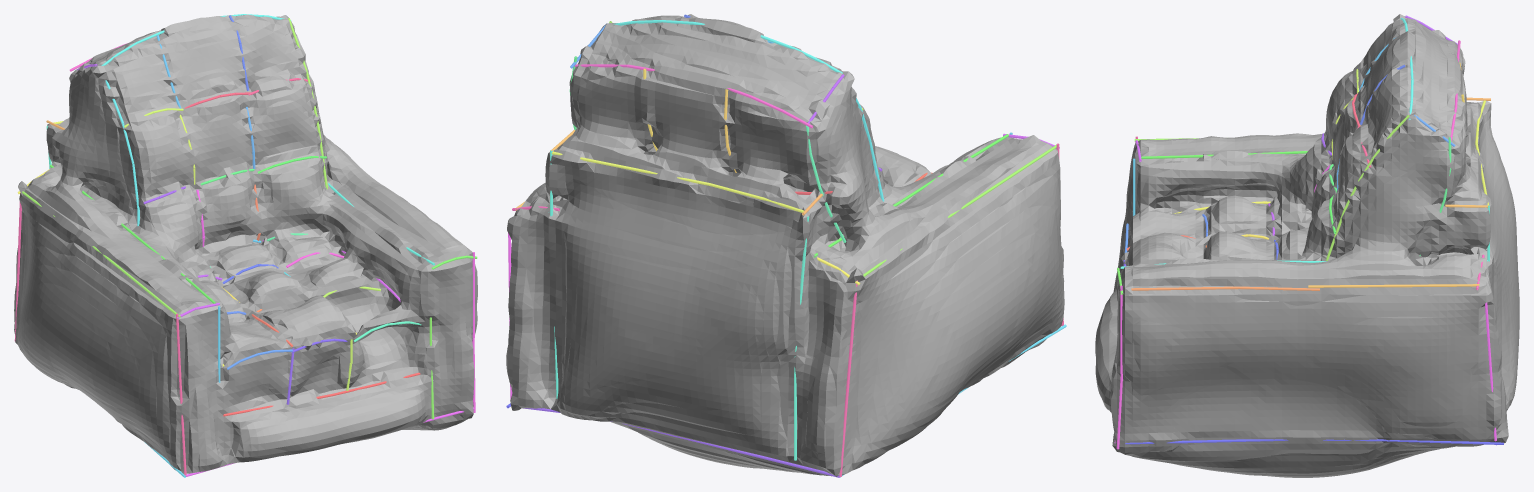
The model's file is author2_sofa.gltf.
The picture shows the model from 3 angles, left to right: view 1: azimuth 30°, elevation 25°; view 2: azimuth 150°, elevation 25°; view 3: azimuth 270°, elevation 25°; orthographic projection. The views are drawn at different scales.
Size of the model in its own units: 0.6145 by 0.6761 by 0.6664.
